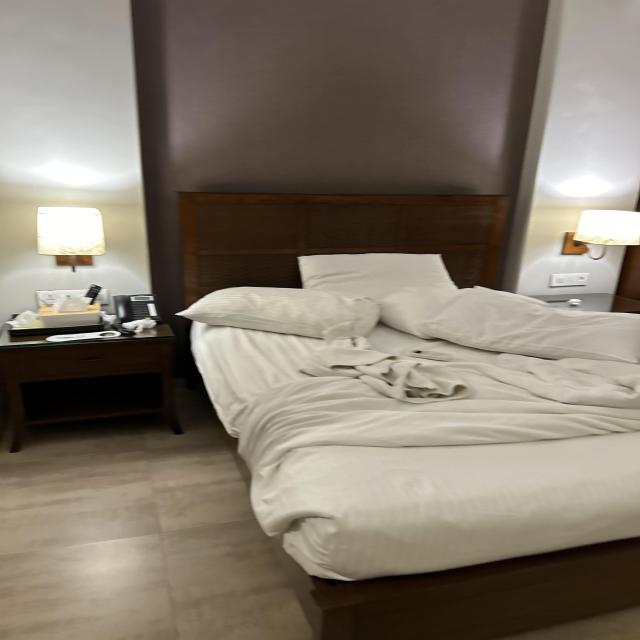mess: (194, 272, 640, 525), (0, 270, 182, 352)
